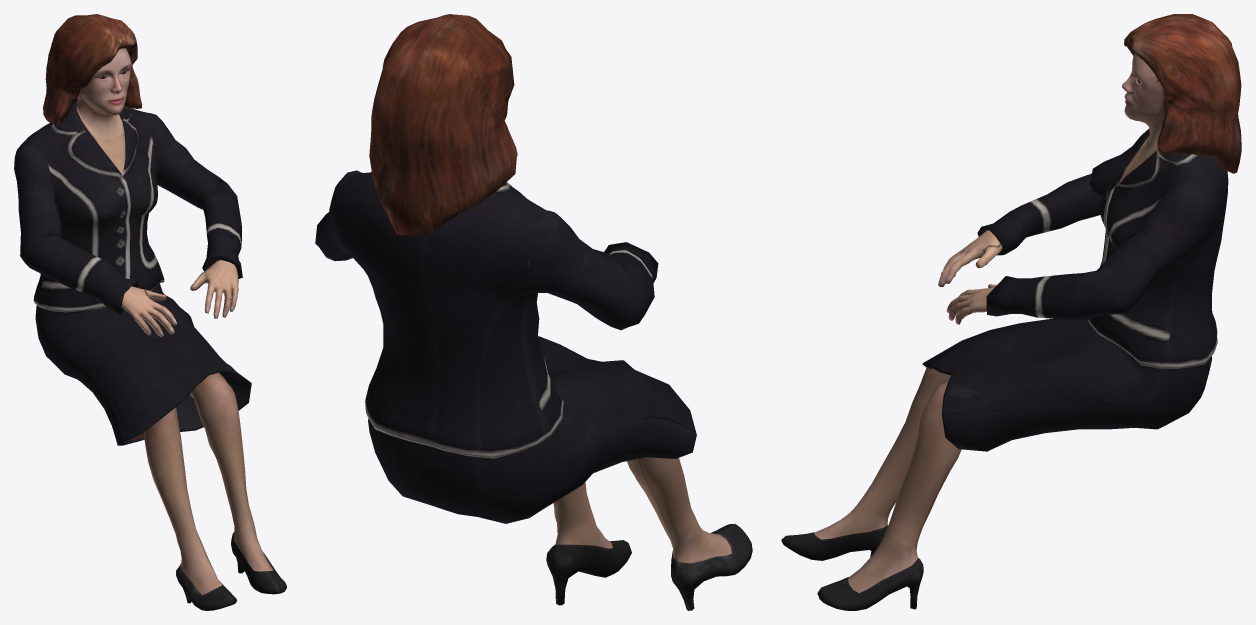
File: 3DGJ_pj05_qyp.FBX
3 views of the same model, side by side, from view 1: azimuth 30°, elevation 25°; view 2: azimuth 150°, elevation 25°; view 3: azimuth 270°, elevation 25° (orthographic). The views are drawn at different scales.
Visible parts, largest first — view 1: 3DGJ_pj05_qyp; view 2: 3DGJ_pj05_qyp; view 3: 3DGJ_pj05_qyp.
Boxes of the visible parts, x1,y1,x2,y2 form: 3DGJ_pj05_qyp: (14,14,286,610); 3DGJ_pj05_qyp: (315,14,752,610); 3DGJ_pj05_qyp: (781,14,1241,610).
Bounding box in the file's own units: 0.6466 × 1.4 × 1.02.
